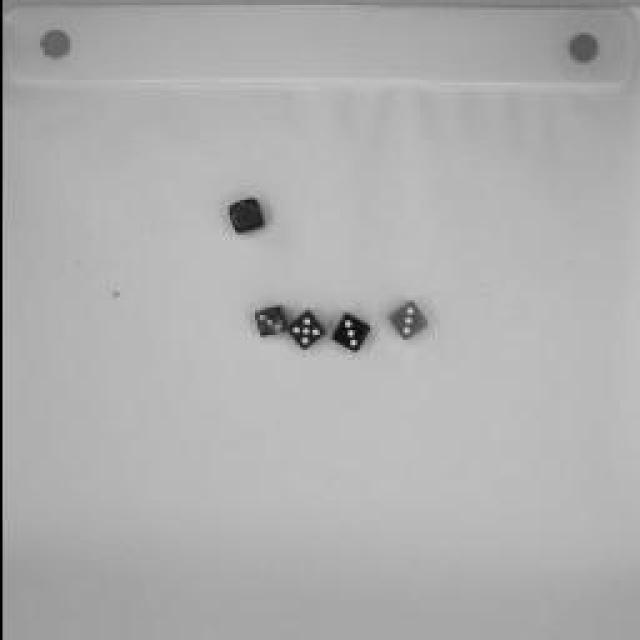dice_3: (382, 300, 428, 340), (331, 310, 369, 352), (255, 308, 285, 338)
dice_5: (288, 311, 320, 349)
dice_6: (226, 197, 259, 235)
